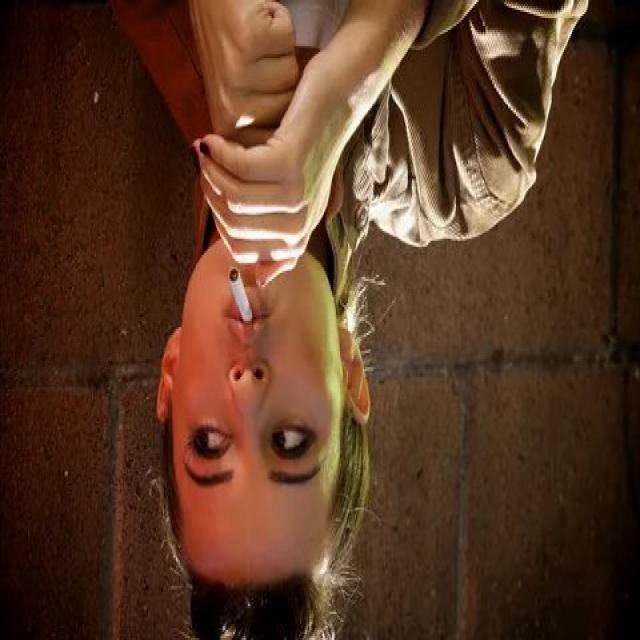smoke: (224, 265, 254, 327)
